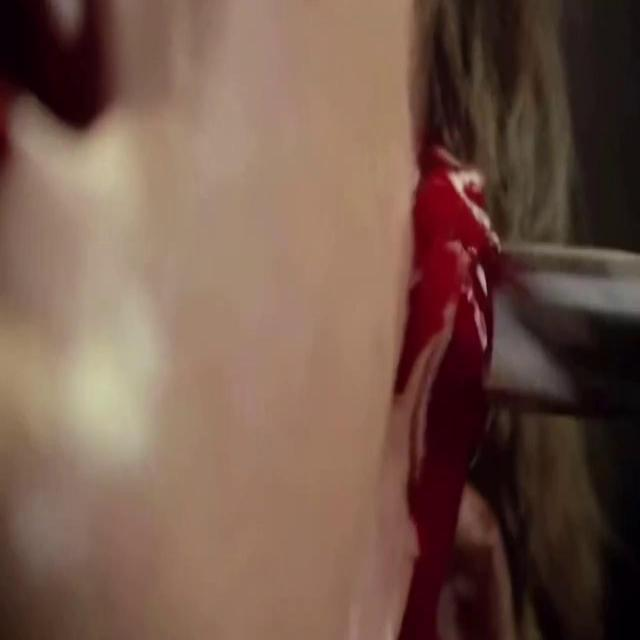flood: (405, 189, 522, 640)
